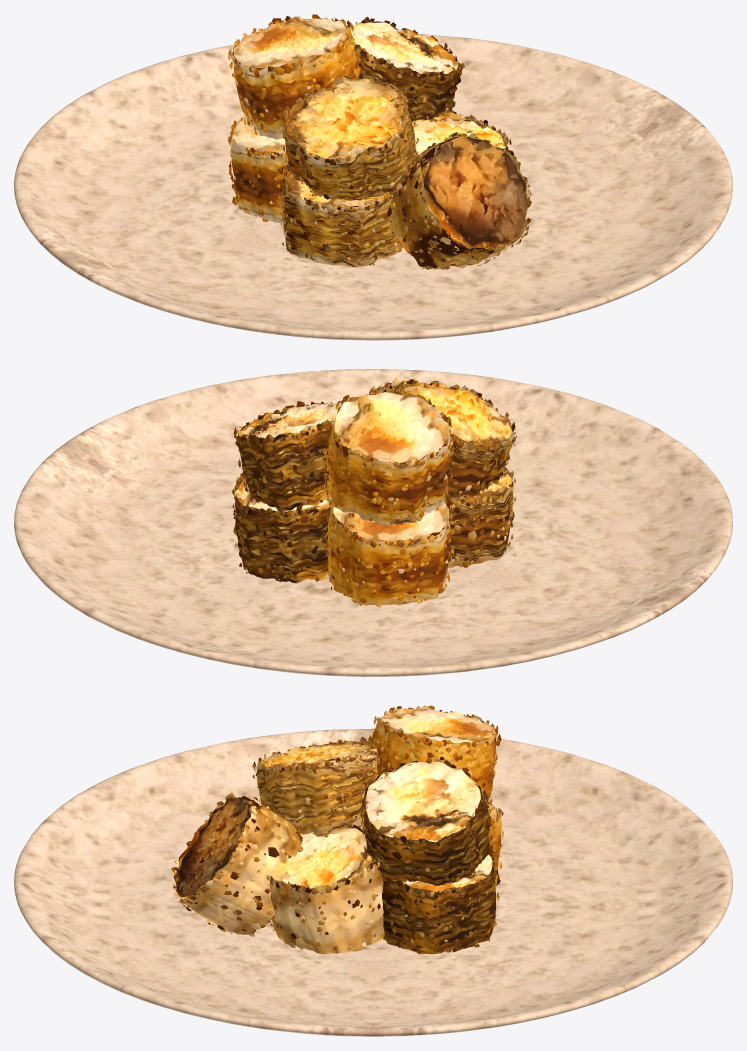
File: hot-roll.glb
3 views of the same model, one above another, from view 1: azimuth 30°, elevation 25°; view 2: azimuth 150°, elevation 25°; view 3: azimuth 270°, elevation 25° (orthographic).
Visible parts, largest first — view 1: Prato de cerâmica · 20 cm, Hot roll 08, Hot roll 07, Hot roll 05, Hot roll 03, Hot roll 06, Hot roll 01, Hot roll 04; view 2: Prato de cerâmica · 20 cm, Hot roll 05, Hot roll 01, Hot roll 06, Hot roll 02, Hot roll 07, Hot roll 03; view 3: Prato de cerâmica · 20 cm, Hot roll 06, Hot roll 08, Hot roll 04, Hot roll 07, Hot roll 02, Hot roll 05, Hot roll 01.
Boxes of the visible parts, box(x1,y1,x2,y2) form: Prato de cerâmica · 20 cm: box(14, 34, 732, 340); Hot roll 08: box(387, 130, 531, 269); Hot roll 07: box(282, 76, 418, 206); Hot roll 05: box(228, 14, 360, 139); Hot roll 03: box(279, 155, 403, 267); Hot roll 06: box(339, 16, 464, 121); Hot roll 01: box(227, 116, 315, 223); Hot roll 04: box(387, 107, 511, 194); Prato de cerâmica · 20 cm: box(14, 369, 732, 676); Hot roll 05: box(322, 389, 456, 526); Hot roll 01: box(325, 496, 453, 607); Hot roll 06: box(233, 401, 352, 511); Hot roll 02: box(232, 473, 358, 583); Hot roll 07: box(389, 381, 516, 501); Hot roll 03: box(413, 466, 516, 567); Prato de cerâmica · 20 cm: box(14, 728, 732, 1036); Hot roll 06: box(360, 756, 492, 892); Hot roll 08: box(171, 792, 306, 936); Hot roll 04: box(266, 825, 384, 954); Hot roll 07: box(252, 736, 377, 837); Hot roll 02: box(369, 836, 500, 954); Hot roll 05: box(368, 705, 501, 804); Hot roll 01: box(461, 801, 503, 888).
Size of the model in its own units: 0.1999 by 0.0574 by 0.2.
Materials: 10 (10 with a texture image).
